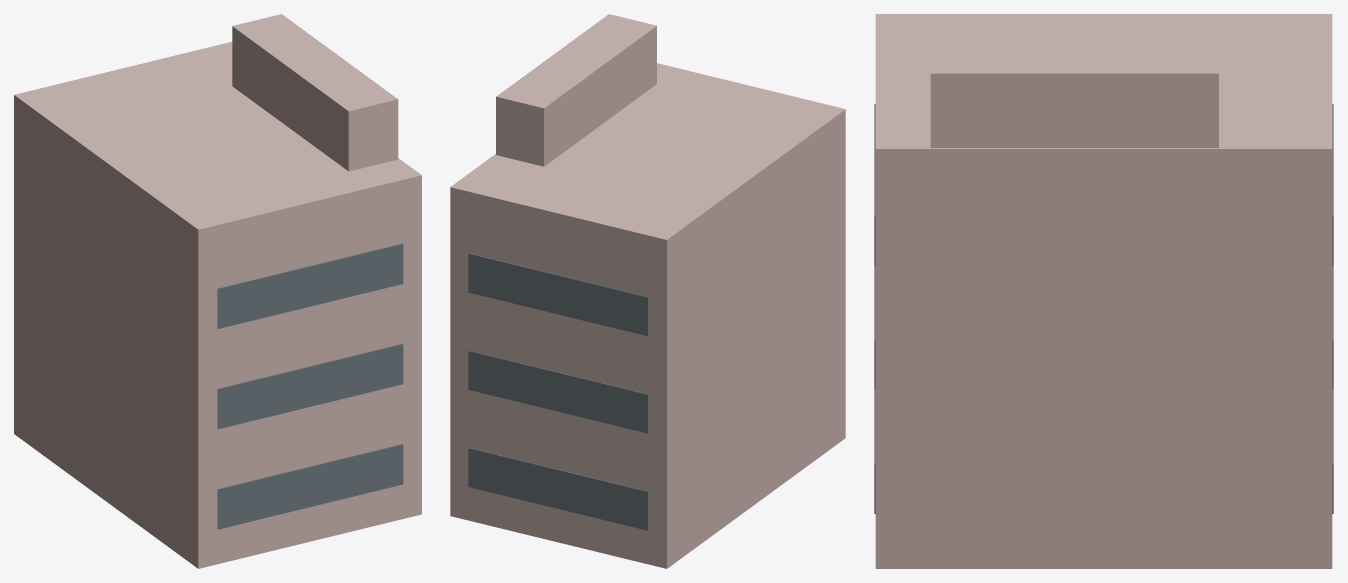
File: bay-townhouse-pink.coast-v2.lod2.glb
3 renders of one model, left to right at view 1: azimuth 30°, elevation 25°; view 2: azimuth 150°, elevation 25°; view 3: azimuth 270°, elevation 25°, orthographic. The views are drawn at different scales.
Parts seen in each view (by area): view 1: bay-townhouse-pink; view 2: bay-townhouse-pink; view 3: bay-townhouse-pink.
Part boxes in pixels (x1,y1,x2,y2): bay-townhouse-pink: [14, 14, 421, 568]; bay-townhouse-pink: [450, 14, 845, 568]; bay-townhouse-pink: [874, 14, 1333, 568].
Bounding box in the file's own units: 7 × 11.95 × 10.06.
